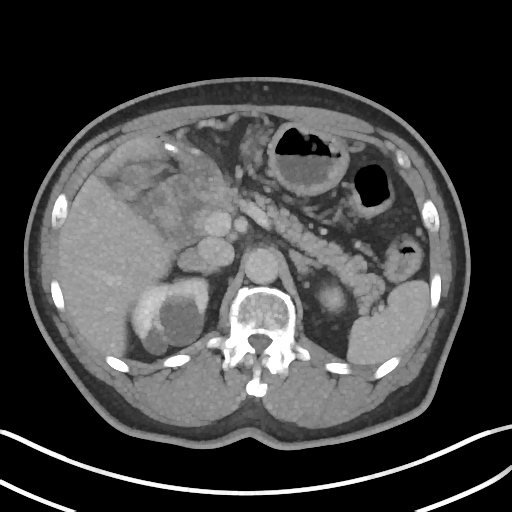Lesion: (137, 323, 169, 359)
